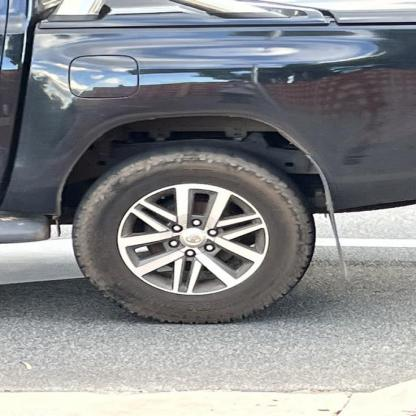Tire: (72, 144, 315, 326)
